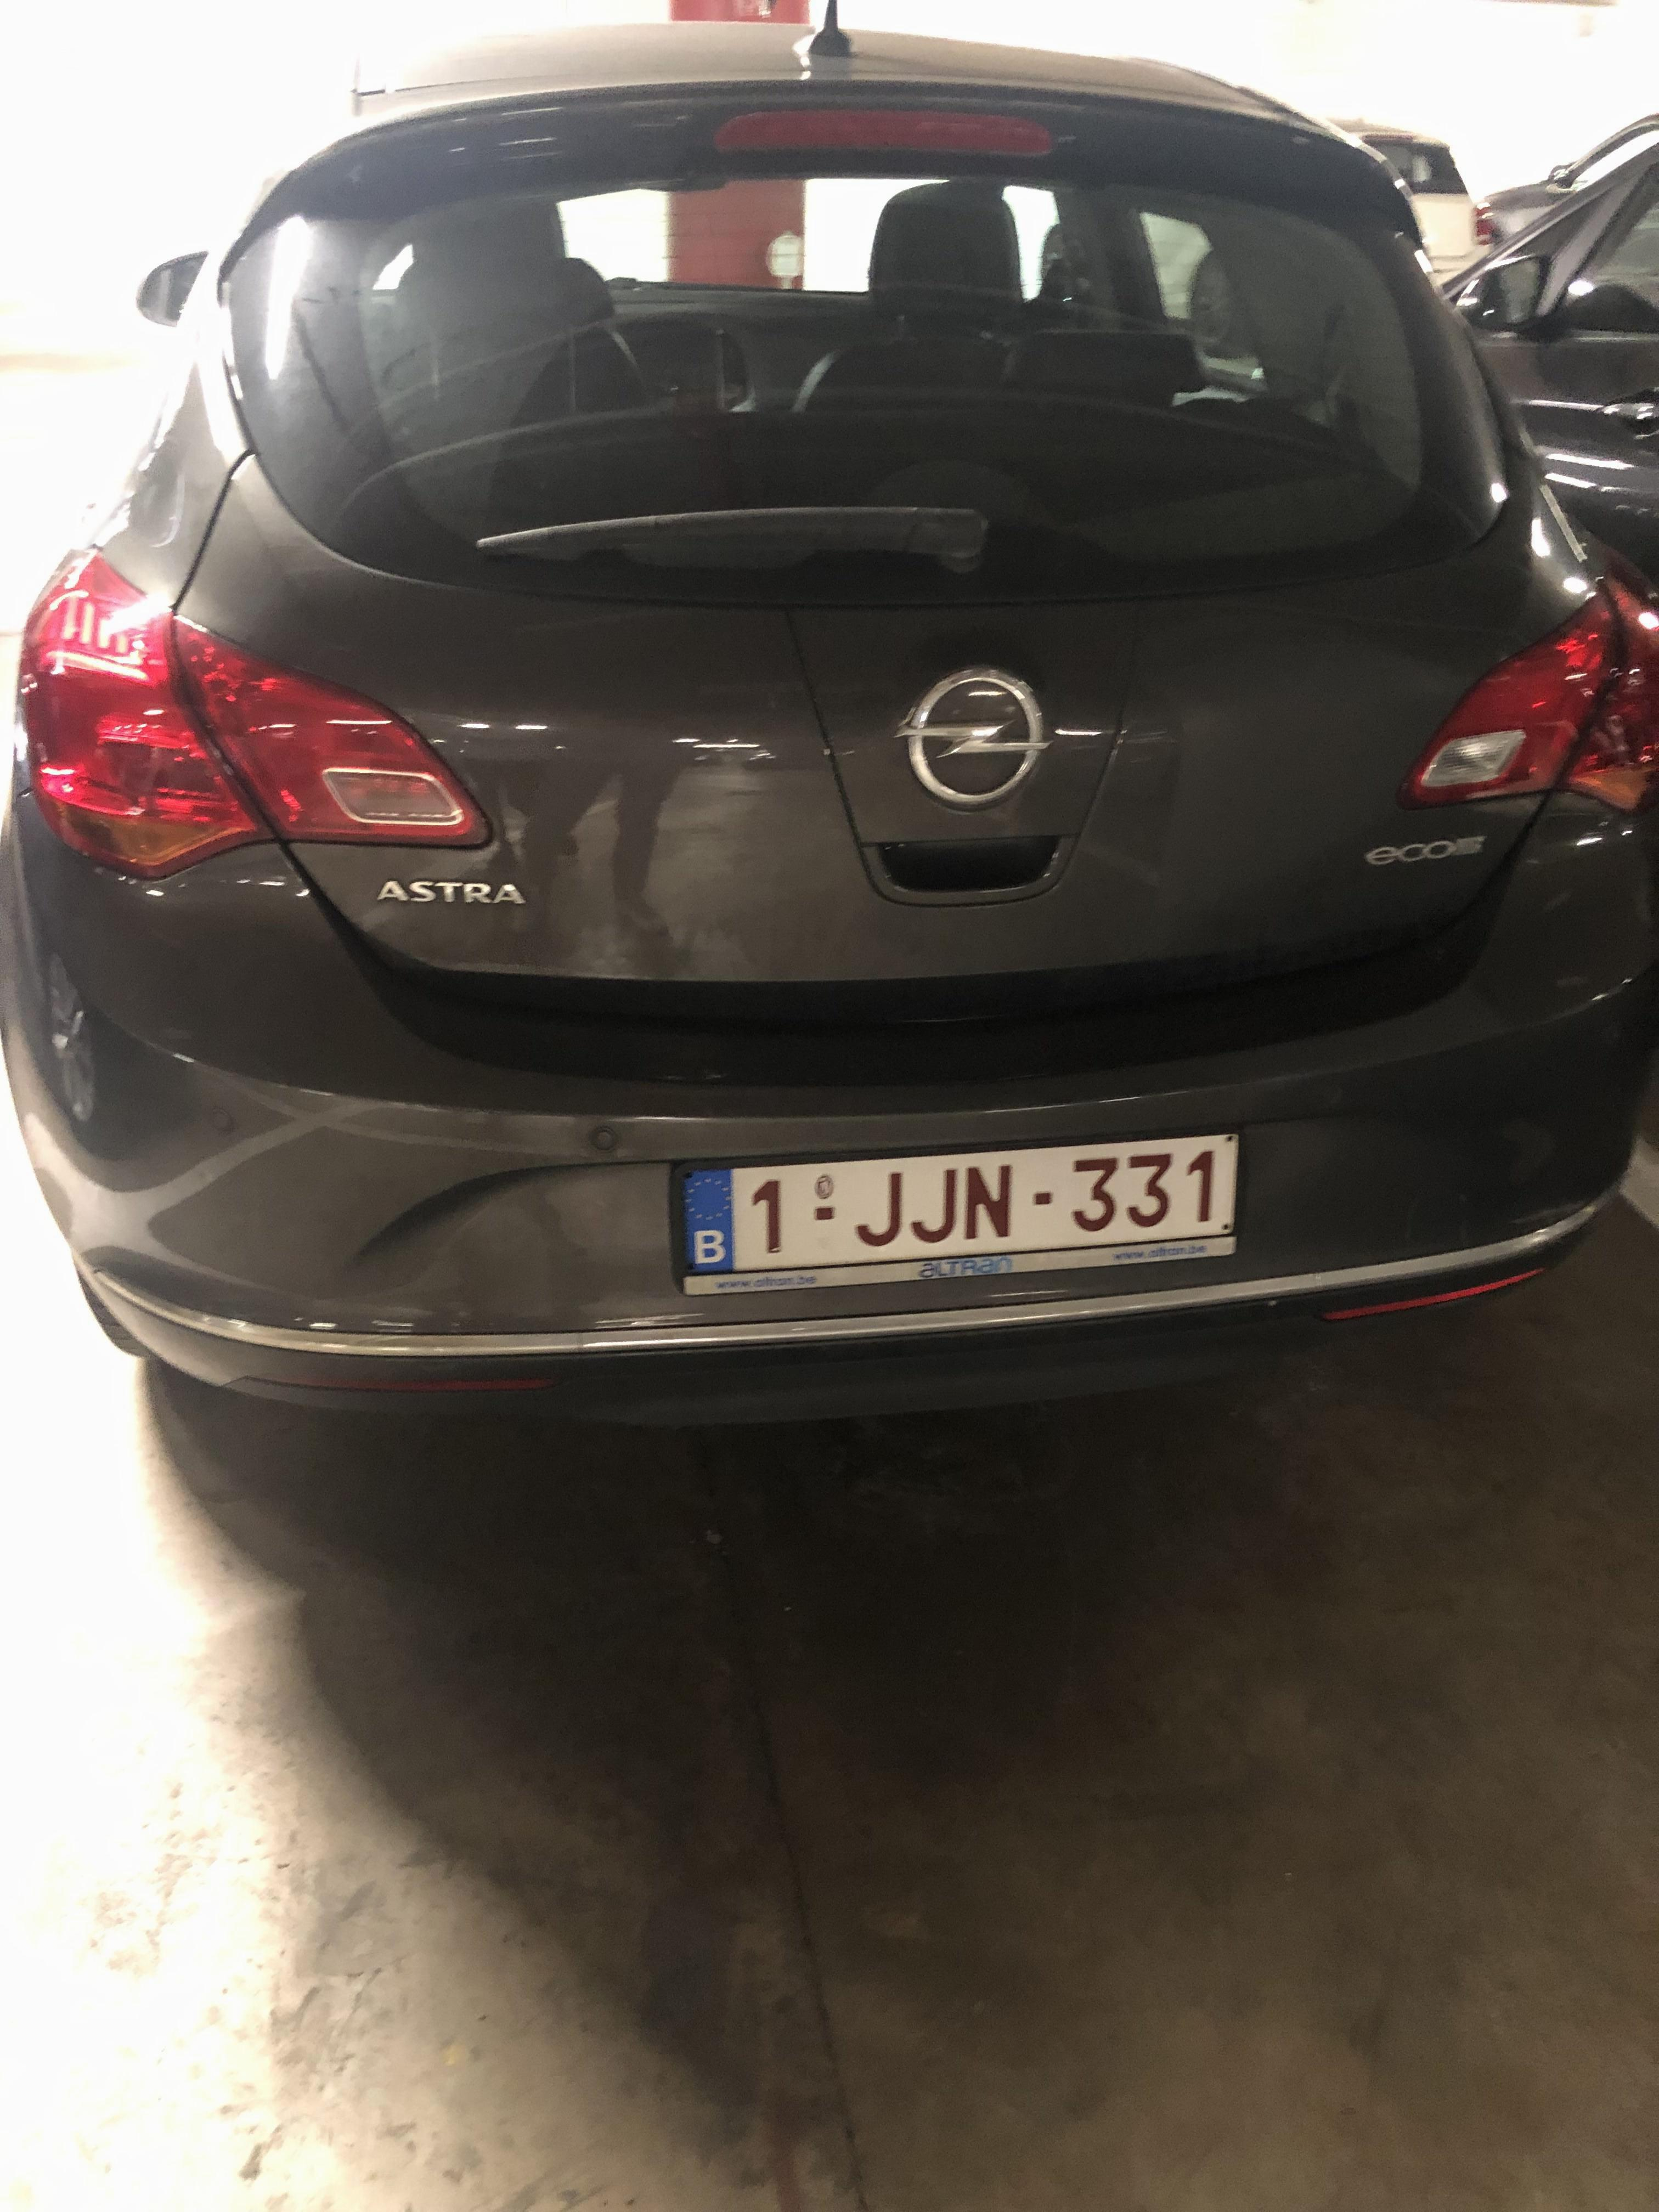plate: (650, 1119, 1266, 1306)
